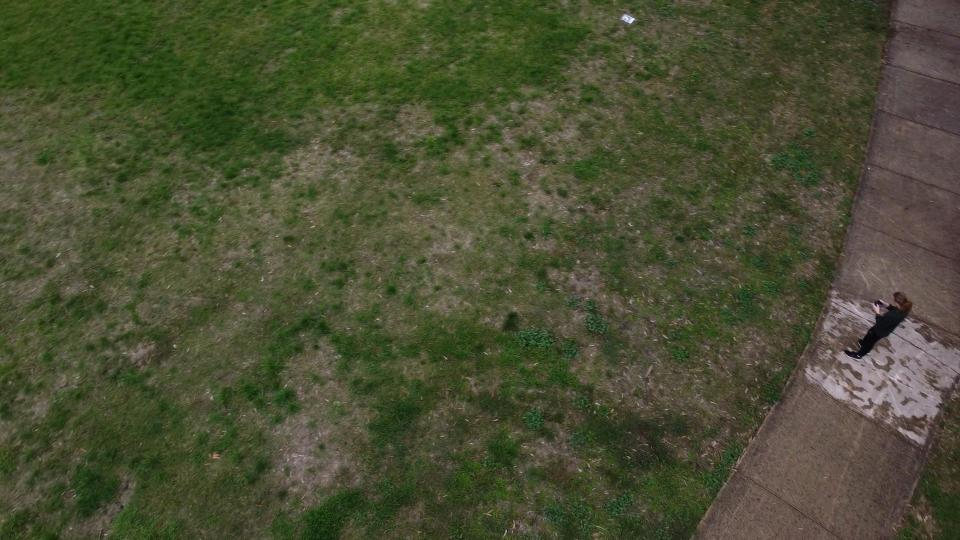aruco: (621, 14, 633, 23)
